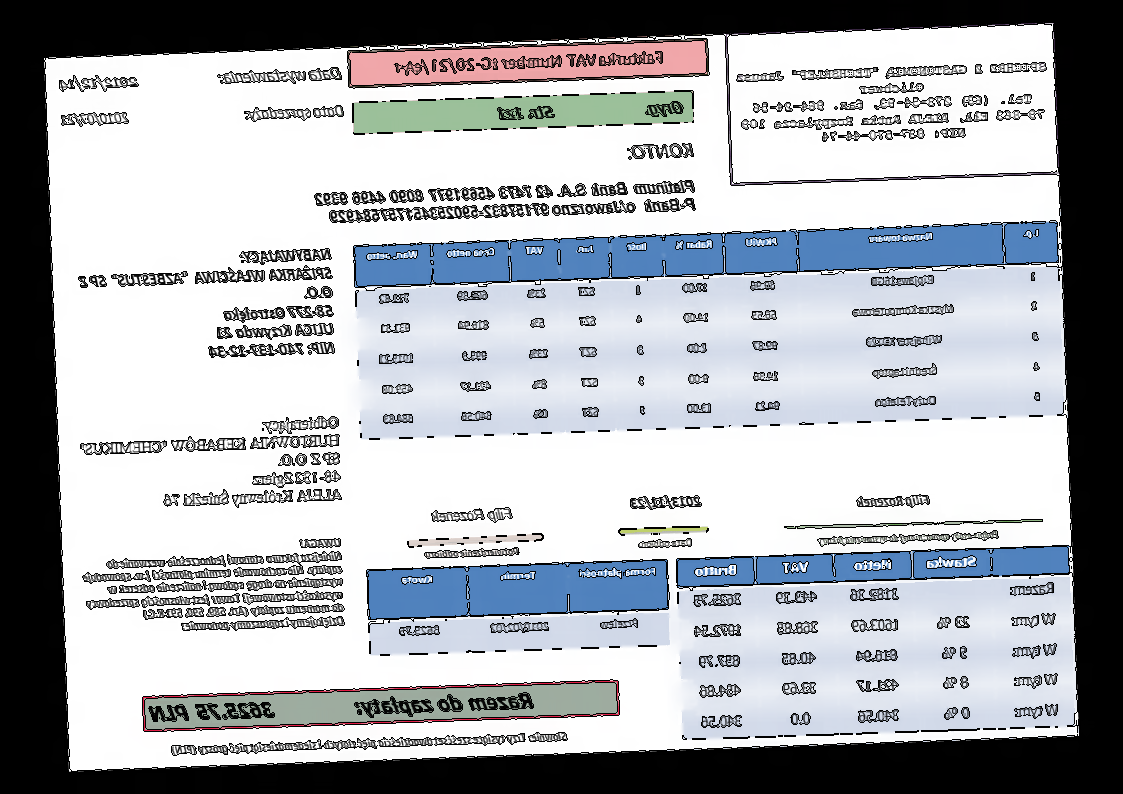Table: (352, 219, 1066, 441), (676, 544, 1078, 740), (364, 556, 672, 659)
TextBox: (73, 246, 337, 366), (736, 58, 1050, 149), (80, 535, 346, 637), (78, 415, 344, 512), (310, 176, 698, 229), (148, 687, 537, 727), (169, 729, 571, 759), (390, 47, 667, 79), (495, 97, 685, 125), (815, 528, 1001, 548), (215, 64, 346, 87), (242, 103, 348, 124), (428, 504, 516, 526), (57, 72, 140, 94), (422, 545, 522, 561), (629, 492, 705, 513), (58, 108, 133, 129), (856, 490, 931, 511), (625, 141, 696, 162), (637, 535, 697, 552)
